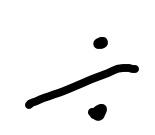div: (26, 37, 139, 121)
